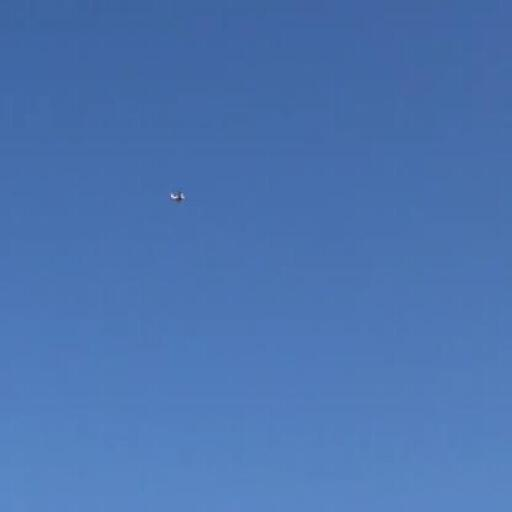aircraft: (171, 190, 186, 200)
